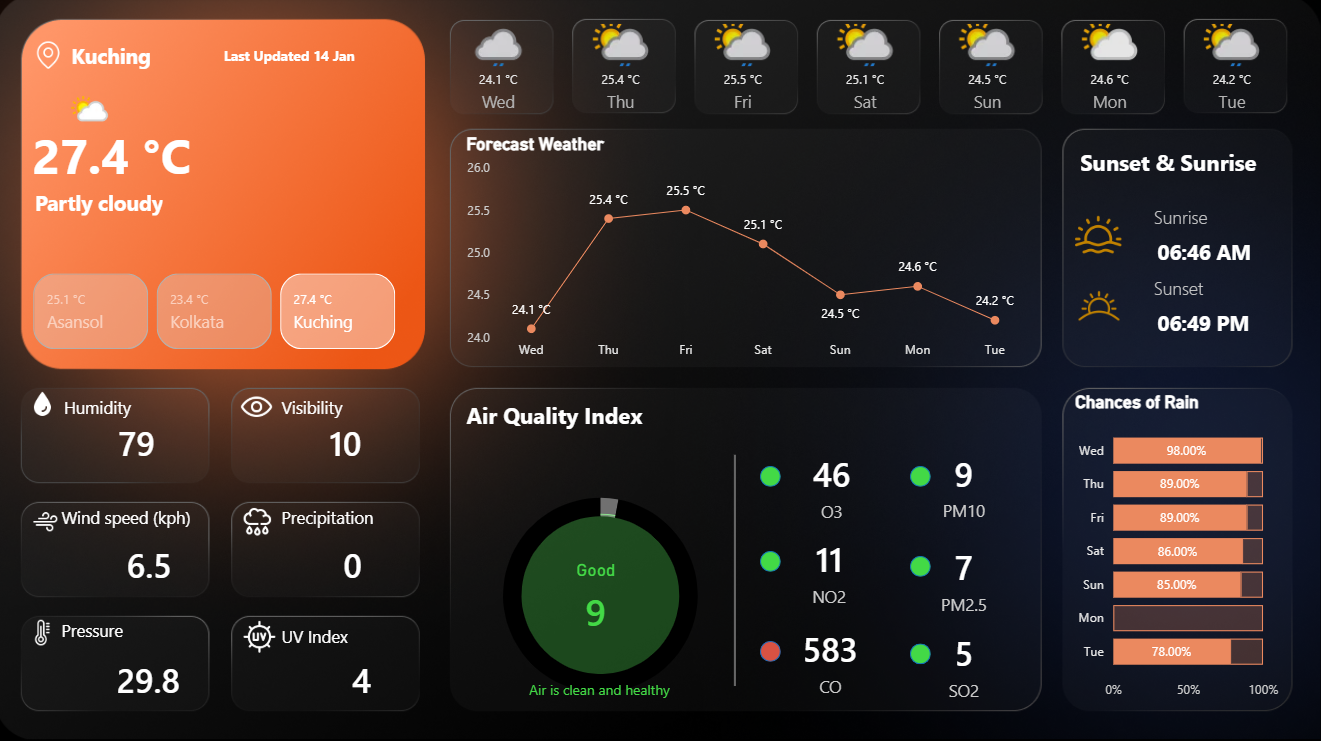

The dashboard page shown, as its layout file describes it:
{"tool":"powerbi","page":{"name":"Page 1","canvas":[1280,720],"ordinal":0},"visuals":[{"type":"shape","box":[504.3,499,158,158],"z":0},{"type":"advancedSlicerVisual","fields":{"Values":["Locations.location.name"]},"box":[12.1,263,399.3,83.2],"z":1000},{"type":"shape","box":[35.7,87.8,242.9,130.4],"z":2000},{"type":"shape","box":[38.9,132.6,242.2,131.2],"z":3000},{"type":"shape","box":[73.5,31.7,147.1,51.9],"z":4000},{"type":"shape","box":[220.6,31.7,229.2,51.9],"z":5000},{"type":"image","box":[38.9,37.5,26,38.9],"z":6000},{"type":"cardVisual","fields":{"Data":["Min(current.current.condition.icon)"]},"box":[0,31.4,183.4,118.2],"z":7000},{"type":"image","box":[26.1,381.5,38.4,24.7],"z":8000},{"type":"textbox","box":[61.5,381.2,88.1,39.8],"z":9000},{"type":"image","box":[234,378.8,37,35],"z":10000},{"type":"image","box":[35.7,491.3,24.7,32.9],"z":11000},{"type":"image","box":[26.1,602.4,38.4,24.7],"z":12000},{"type":"image","box":[230.4,491,45.8,32.6],"z":13000},{"type":"image","box":[234,602,42.2,32.6],"z":14000},{"type":"textbox","box":[59.1,487.4,152,39.8],"z":15000},{"type":"textbox","box":[271.4,381.2,80.8,38.6],"z":16000},{"type":"textbox","box":[59.1,596,83.2,38.6],"z":17000},{"type":"textbox","box":[271.4,602,77.2,41],"z":18000},{"type":"textbox","box":[271.4,487.4,100.1,39.8],"z":19000},{"type":"card","fields":{"Values":["Sum(current.current.humidity)"]},"box":[103.8,405.4,66.4,53.1],"z":20000},{"type":"card","fields":{"Values":["Sum(current.current.vis_km)"]},"box":[305.2,405.4,66.4,53.1],"z":21000},{"type":"card","fields":{"Values":["Sum(current.current.wind_kph)"]},"box":[103.8,523.6,90.5,53.1],"z":22000},{"type":"card","fields":{"Values":["Sum(current.current.pressure_in)"]},"box":[102.8,634.4,91.4,53.3],"z":23000},{"type":"card","fields":{"Values":["Sum(current.current.precip_in)"]},"box":[312.1,524,66,53.3],"z":24000},{"type":"card","fields":{"Values":["Sum(current.current.uv)"]},"box":[321,634.4,66,53.3],"z":25000},{"type":"advancedSlicerVisual","fields":{"Values":["forecast_day.day_name"]},"box":[425.9,20.5,830,109.8],"z":26000},{"type":"lineChart","title":"Forecast Weather","fields":{"Y":["Avg(forecast_day.forecast.forecastday.day.avgtemp_c)"],"Category":["forecast_day.day_name"]},"box":[450,132.7,550.1,226.8],"z":27000},{"type":"textbox","box":[1042.4,141.2,191.8,47.1],"z":28000},{"type":"shape","box":[1122,228,94.1,36.2],"z":29000},{"type":"shape","box":[1122,296.8,94.1,36.2],"z":30000},{"type":"shape","box":[1118.5,194.6,94.1,36.2],"z":31000},{"type":"shape","box":[1118.5,263.4,94.1,36.2],"z":32000},{"type":"image","box":[1042.4,203.9,44.6,53.1],"z":33000},{"type":"image","box":[1037.5,272.7,55.5,53.1],"z":34000},{"type":"hundredPercentStackedBarChart","title":"Chances of Rain","fields":{"Y":["Sum(forecast_day.forecast.forecastday.day.daily_chance_of_rain)","current.Left_value_Rain"],"Category":["forecast_day.day_name"]},"box":[1038,381.3,206.5,307],"z":35000},{"type":"textbox","box":[450,384.9,191.8,47.1],"z":36000},{"type":"card","fields":{"Values":["Sum(current.current.air_quality.pm10)"]},"box":[882.9,432.1,104.3,81.6],"z":37000},{"type":"card","fields":{"Values":["Sum(current.current.air_quality.pm2_5)"]},"box":[882.9,523.1,104.3,78.9],"z":38000},{"type":"card","fields":{"Values":["Sum(current.current.air_quality.so2)"]},"box":[882.9,608.7,104.3,73.6],"z":39000},{"type":"card","fields":{"Values":["Sum(current.current.air_quality.o3)"]},"box":[758.5,434.8,97.7,77.6],"z":40000},{"type":"card","fields":{"Values":["Sum(current.current.air_quality.no2)"]},"box":[755.9,515.1,97.7,80.3],"z":41000},{"type":"card","fields":{"Values":["Sum(current.current.air_quality.co)"]},"box":[757.2,602,97.7,80.3],"z":42000},{"type":"shape","box":[882.9,453.5,20.1,20.1],"z":43000},{"type":"shape","box":[882.9,540.5,20.1,20.1],"z":44000},{"type":"shape","box":[882.9,624.8,20.1,20.1],"z":45000},{"type":"shape","box":[738.5,453.5,20.1,20.1],"z":46000},{"type":"shape","box":[738.5,535.1,20.1,20.1],"z":47000},{"type":"shape","box":[738.5,622.1,20.1,20.1],"z":48000},{"type":"shape","box":[671.6,442.8,84.3,223.4],"z":49000},{"type":"donutChart","fields":{"Y":["Sum(current.current.air_quality.pm10)","Measures table.Left_value_PM10"]},"box":[461.5,456.2,244.8,244.8],"z":51000},{"type":"card","fields":{"Values":["Sum(current.current.air_quality.pm10)"]},"box":[521.7,544.5,117.7,81.6],"z":51500},{"type":"shape","box":[448.2,634.1,271.6,69.6],"z":51501}]}

Visuals, with their boxes in screenshot pixels (x1, y1, x2, y2), scaled from the page's 1280x720 canvas onto the 1321x741 screenshot:
shape: <region>520, 514, 684, 676</region>
advancedSlicerVisual - Locations.location.name: <region>12, 271, 425, 356</region>
shape: <region>37, 90, 288, 225</region>
shape: <region>40, 136, 290, 271</region>
shape: <region>76, 33, 228, 86</region>
shape: <region>228, 33, 464, 86</region>
image: <region>40, 39, 67, 79</region>
cardVisual - Min(current.current.condition.icon): <region>0, 32, 189, 154</region>
image: <region>27, 393, 67, 418</region>
textbox: <region>63, 392, 154, 433</region>
image: <region>241, 390, 280, 426</region>
image: <region>37, 506, 62, 539</region>
image: <region>27, 620, 67, 645</region>
image: <region>238, 505, 285, 539</region>
image: <region>241, 620, 285, 653</region>
textbox: <region>61, 502, 218, 543</region>
textbox: <region>280, 392, 363, 432</region>
textbox: <region>61, 613, 147, 653</region>
textbox: <region>280, 620, 360, 662</region>
textbox: <region>280, 502, 383, 543</region>
card - Sum(current.current.humidity): <region>107, 417, 176, 472</region>
card - Sum(current.current.vis_km): <region>315, 417, 384, 472</region>
card - Sum(current.current.wind_kph): <region>107, 539, 201, 594</region>
card - Sum(current.current.pressure_in): <region>106, 653, 200, 708</region>
card - Sum(current.current.precip_in): <region>322, 539, 390, 594</region>
card - Sum(current.current.uv): <region>331, 653, 399, 708</region>
advancedSlicerVisual - forecast_day.day_name: <region>440, 21, 1296, 134</region>
"Forecast Weather" lineChart: <region>464, 137, 1032, 370</region>
textbox: <region>1076, 145, 1274, 194</region>
shape: <region>1158, 235, 1255, 272</region>
shape: <region>1158, 305, 1255, 343</region>
shape: <region>1154, 200, 1251, 238</region>
shape: <region>1154, 271, 1251, 308</region>
image: <region>1076, 210, 1122, 264</region>
image: <region>1071, 281, 1128, 335</region>
"Chances of Rain" hundredPercentStackedBarChart: <region>1071, 392, 1284, 708</region>
textbox: <region>464, 396, 662, 445</region>
card - Sum(current.current.air_quality.pm10): <region>911, 445, 1019, 529</region>
card - Sum(current.current.air_quality.pm2_5): <region>911, 538, 1019, 620</region>
card - Sum(current.current.air_quality.so2): <region>911, 626, 1019, 702</region>
card - Sum(current.current.air_quality.o3): <region>783, 447, 884, 527</region>
card - Sum(current.current.air_quality.no2): <region>780, 530, 881, 613</region>
card - Sum(current.current.air_quality.co): <region>781, 620, 882, 702</region>
shape: <region>911, 467, 932, 487</region>
shape: <region>911, 556, 932, 577</region>
shape: <region>911, 643, 932, 664</region>
shape: <region>762, 467, 783, 487</region>
shape: <region>762, 551, 783, 571</region>
shape: <region>762, 640, 783, 661</region>
shape: <region>693, 456, 780, 686</region>
donutChart - Sum(current.current.air_quality.pm10) x Measures table.Left_value_PM10: <region>476, 470, 729, 721</region>
card - Sum(current.current.air_quality.pm10): <region>538, 560, 660, 644</region>
shape: <region>463, 653, 743, 724</region>
